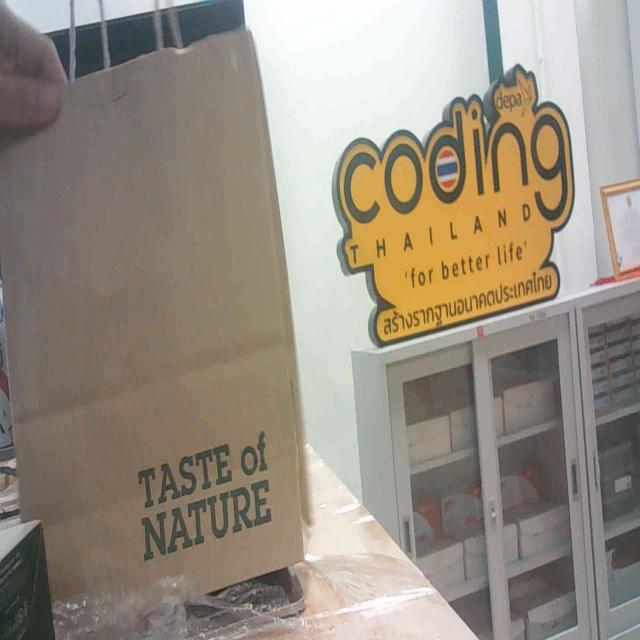bag: (2, 58, 326, 612)
